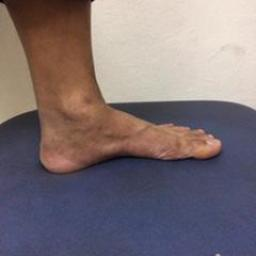Medial View -Left Foot-: (26, 80, 229, 183)
